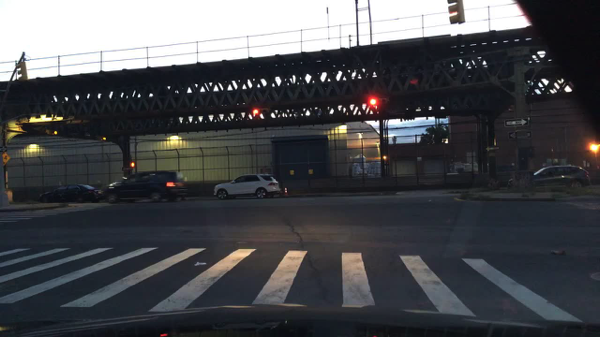car: (105, 170, 186, 204), (507, 163, 589, 190), (213, 174, 280, 199), (39, 184, 103, 203)
traffic light: (447, 0, 465, 26), (17, 60, 27, 81), (368, 97, 390, 106), (589, 142, 599, 154), (253, 108, 268, 115), (50, 129, 63, 137), (129, 161, 136, 168), (102, 136, 109, 141)
traffic sign: (507, 130, 531, 139), (505, 117, 526, 127), (121, 165, 134, 173), (2, 152, 10, 165), (484, 146, 500, 151), (1, 145, 8, 151)
